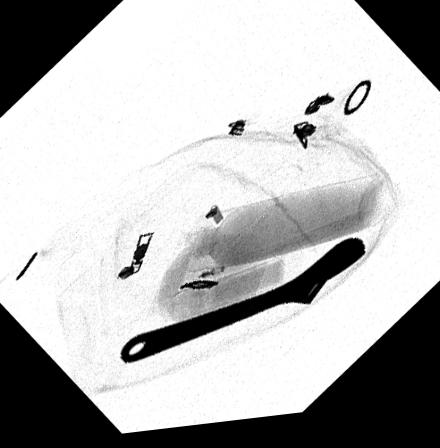Wrench: (120, 246, 364, 366)
